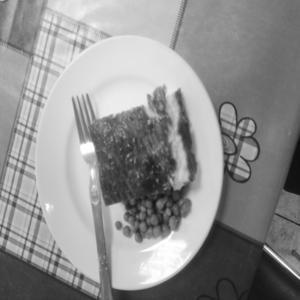casserole: (92, 74, 195, 230)
